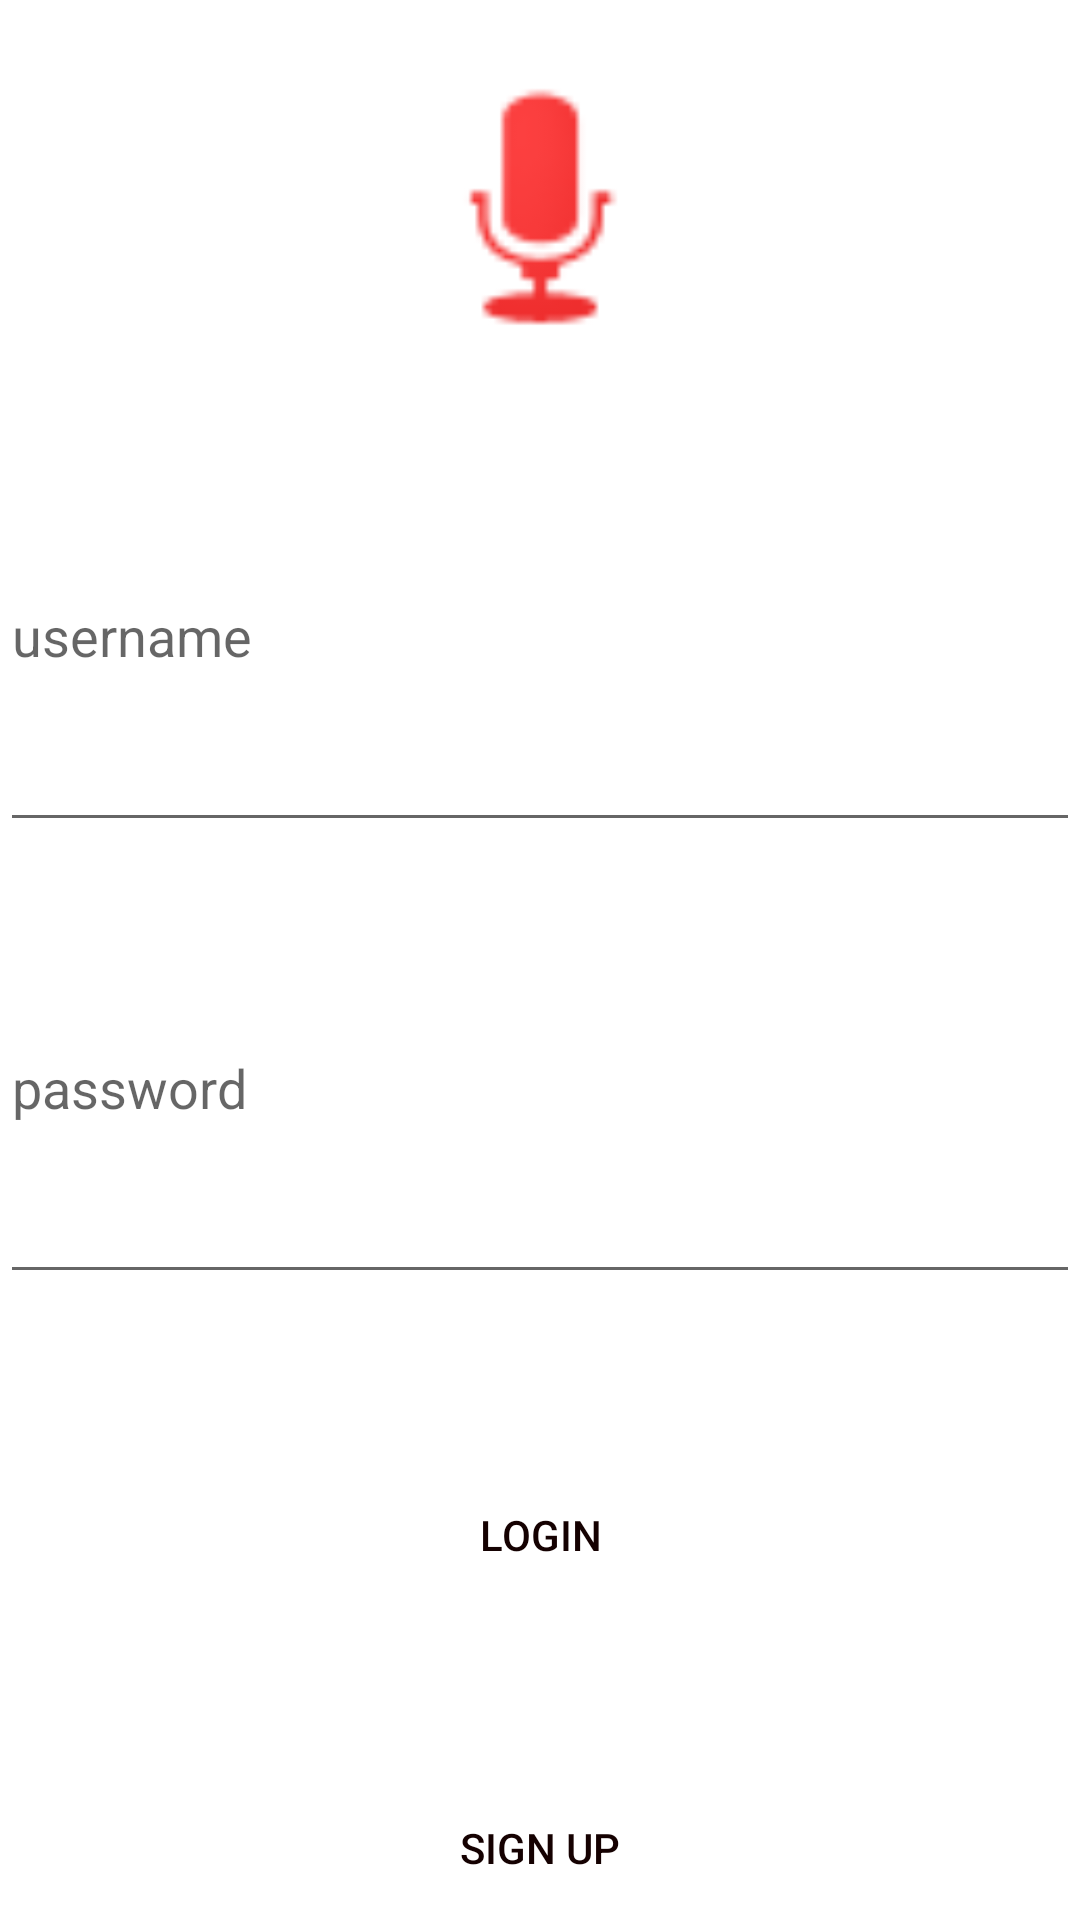

Where icons sit on this 1080px x 1920px app screen, as [left=x1, top=y1, right=x2, bottom=y2]:
presence audio busy: [left=469, top=90, right=616, bottom=325]
